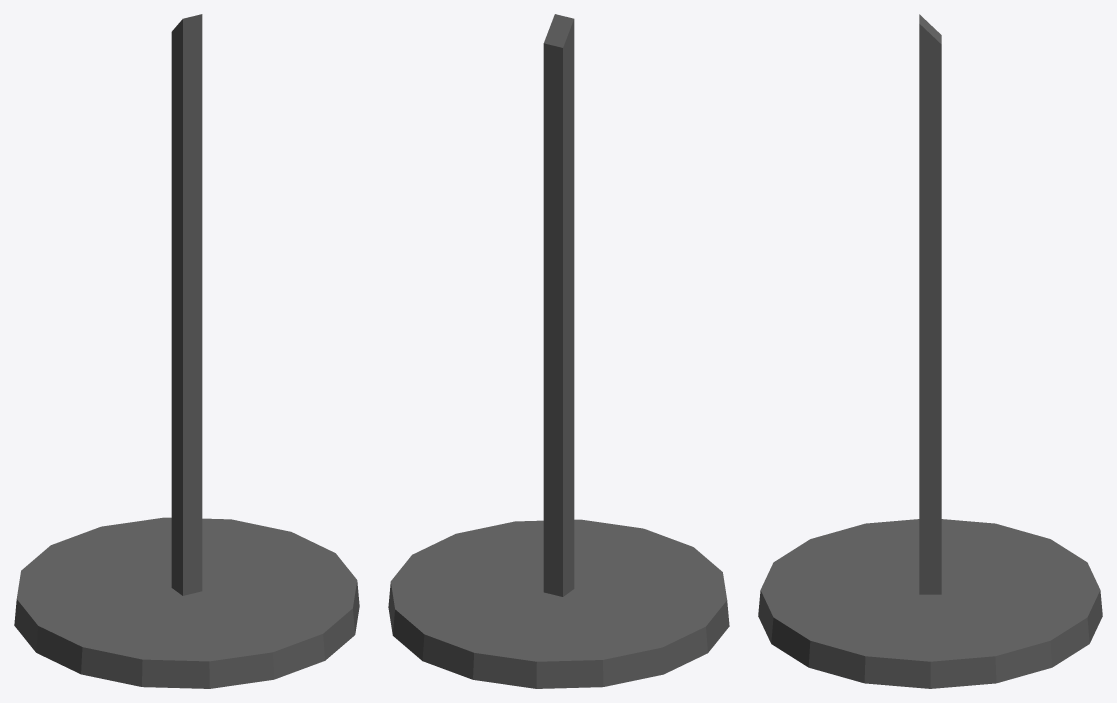
The model's file is Table Lamp 1.fbx.
3 views of the same model, side by side, from view 1: azimuth 30°, elevation 25°; view 2: azimuth 150°, elevation 25°; view 3: azimuth 270°, elevation 25° (orthographic).
Visible parts, largest first — view 1: Table Lamp 1; view 2: Table Lamp 1; view 3: Table Lamp 1.
Part boxes in pixels (box(x1,y1,x2,y2)): Table Lamp 1: box(14, 14, 359, 688); Table Lamp 1: box(388, 14, 729, 688); Table Lamp 1: box(758, 14, 1102, 688).
Size of the model in its own units: 13.39 by 25.61 by 13.39.
